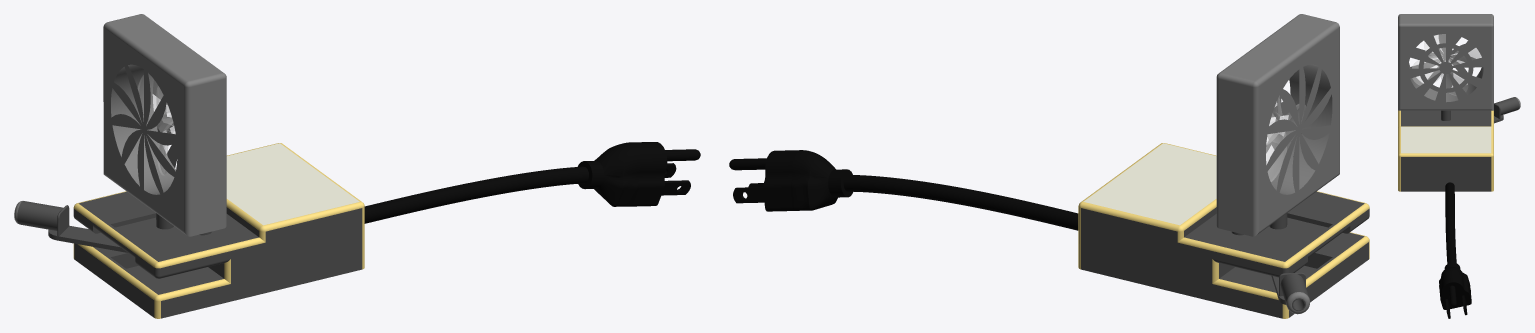
The model's file is candy.glb.
3 renders of one model, left to right at view 1: azimuth 30°, elevation 25°; view 2: azimuth 150°, elevation 25°; view 3: azimuth 270°, elevation 25°, orthographic. The views are drawn at different scales.
Visible parts, largest first — view 1: 實體1, Sólido1, 實體5; view 2: 實體1, Sólido1, 實體5; view 3: 實體1, Sólido1, 實體5.
Part boxes in pixels (left/top/right/bottom): 實體1: left=14, top=14, right=364, bottom=318; Sólido1: left=364, top=142, right=700, bottom=223; 實體5: left=138, top=73, right=175, bottom=175; 實體1: left=1078, top=14, right=1369, bottom=318; Sólido1: left=729, top=150, right=1078, bottom=230; 實體5: left=1266, top=95, right=1305, bottom=181; 實體1: left=1398, top=14, right=1520, bottom=191; Sólido1: left=1439, top=182, right=1471, bottom=318; 實體5: left=1412, top=34, right=1480, bottom=95.
Size of the model in its own units: 0.3011 by 0.1261 by 0.0896.
